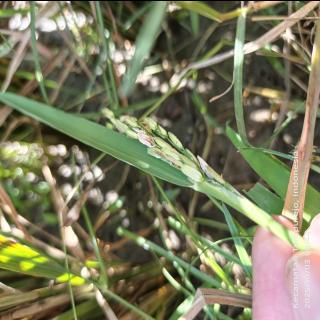Busuk-Bulir: (147, 146, 182, 170), (138, 132, 156, 146), (139, 120, 152, 132)
